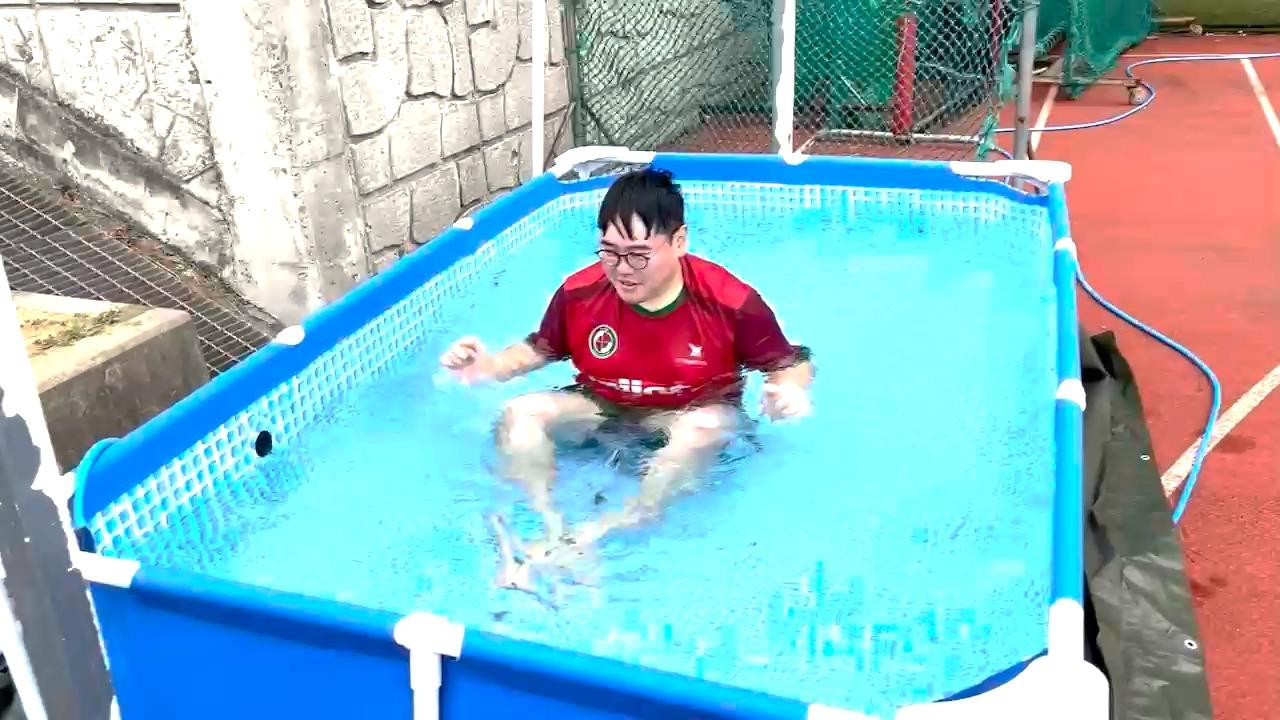Swimming: (404, 113, 934, 586)
